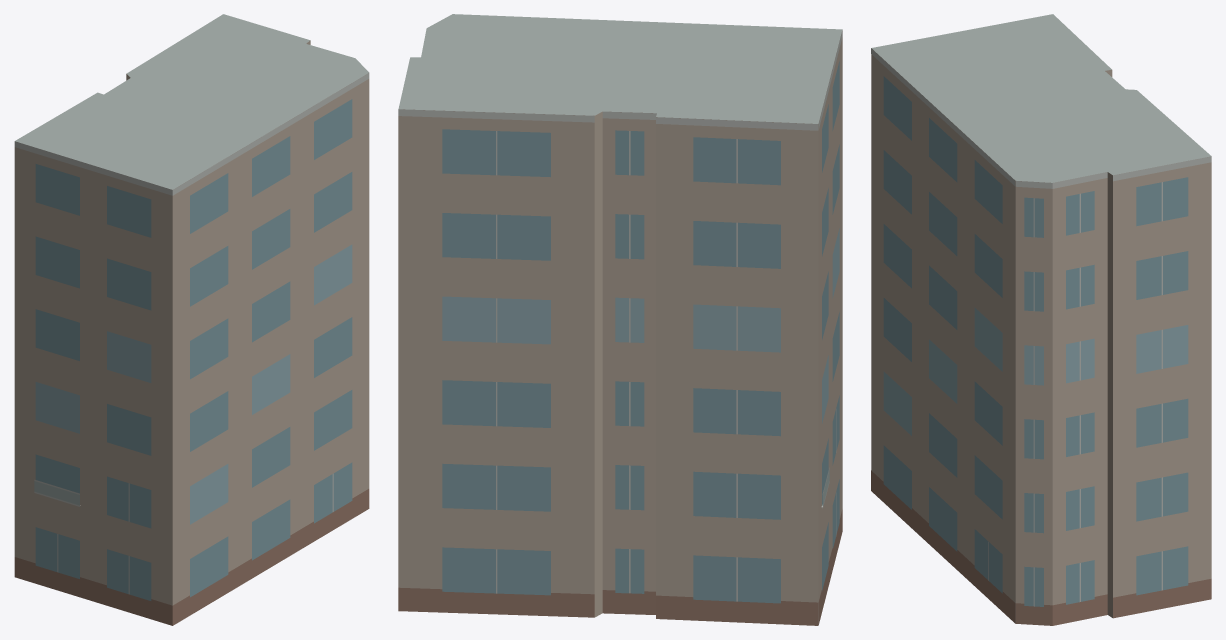
File: survey-upis-33013258.glb
3 views of the same model, side by side, from view 1: azimuth 30°, elevation 25°; view 2: azimuth 150°, elevation 25°; view 3: azimuth 270°, elevation 25° (orthographic). The views are drawn at different scales.
Parts seen in each view (by area): view 1: survey-upis-33013258.tmp; view 2: survey-upis-33013258.tmp; view 3: survey-upis-33013258.tmp.
Part boxes in pixels (x1=…): survey-upis-33013258.tmp: x1=14, y1=14, x2=369, y2=625; survey-upis-33013258.tmp: x1=398, y1=14, x2=842, y2=625; survey-upis-33013258.tmp: x1=871, y1=14, x2=1211, y2=625.
Bounding box in the file's own units: 14.73 × 18 × 12.55.
